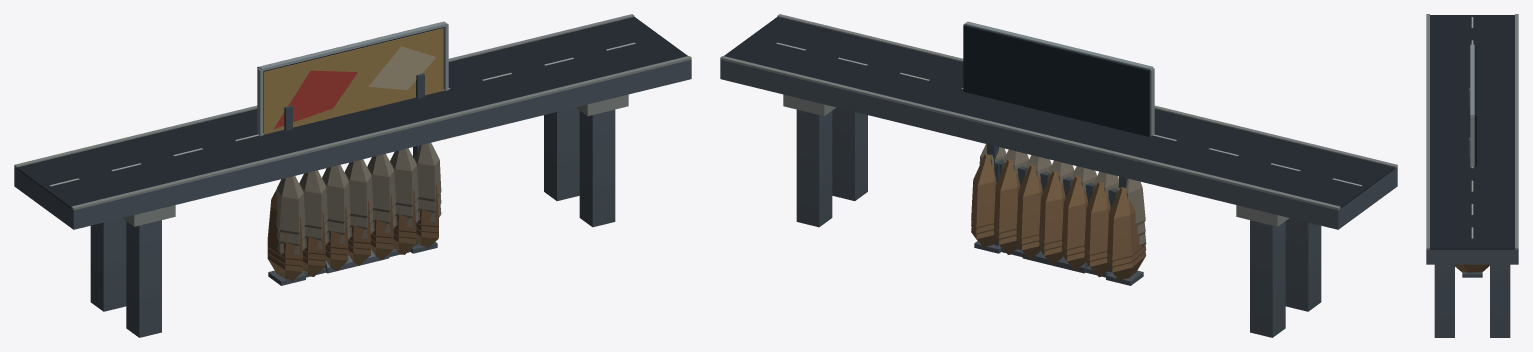
The model's file is ap_borde.glb.
3 renders of one model, left to right at view 1: azimuth 30°, elevation 25°; view 2: azimuth 150°, elevation 25°; view 3: azimuth 270°, elevation 25°, orthographic. The views are drawn at different scales.
Visible parts, largest first — view 1: paso_elevado__malla, valla_publicitaria__malla, talud_roca_3__malla, talud_roca_1__malla, talud_roca_2__malla; view 2: paso_elevado__malla, valla_publicitaria__malla, talud_roca_3__malla, talud_roca_1__malla, talud_roca_2__malla, muro_antirruido__malla; view 3: paso_elevado__malla, valla_publicitaria__malla, talud_roca_1__malla.
Boxes of the visible parts, left/top/right/bottom form: paso_elevado__malla: left=14, top=14, right=691, bottom=337; valla_publicitaria__malla: left=257, top=21, right=448, bottom=285; talud_roca_3__malla: left=267, top=143, right=441, bottom=260; talud_roca_1__malla: left=267, top=205, right=441, bottom=281; talud_roca_2__malla: left=267, top=194, right=441, bottom=266; paso_elevado__malla: left=720, top=14, right=1397, bottom=337; valla_publicitaria__malla: left=963, top=21, right=1154, bottom=285; talud_roca_3__malla: left=971, top=144, right=1146, bottom=261; talud_roca_1__malla: left=971, top=227, right=1146, bottom=281; talud_roca_2__malla: left=971, top=221, right=1146, bottom=267; muro_antirruido__malla: left=994, top=159, right=1117, bottom=277; paso_elevado__malla: left=1426, top=14, right=1518, bottom=337; valla_publicitaria__malla: left=1462, top=44, right=1482, bottom=277; talud_roca_1__malla: left=1455, top=264, right=1489, bottom=272.
Size of the model in its own units: 30 by 10.06 by 5.
Materials: 12 (12 with a texture image).
